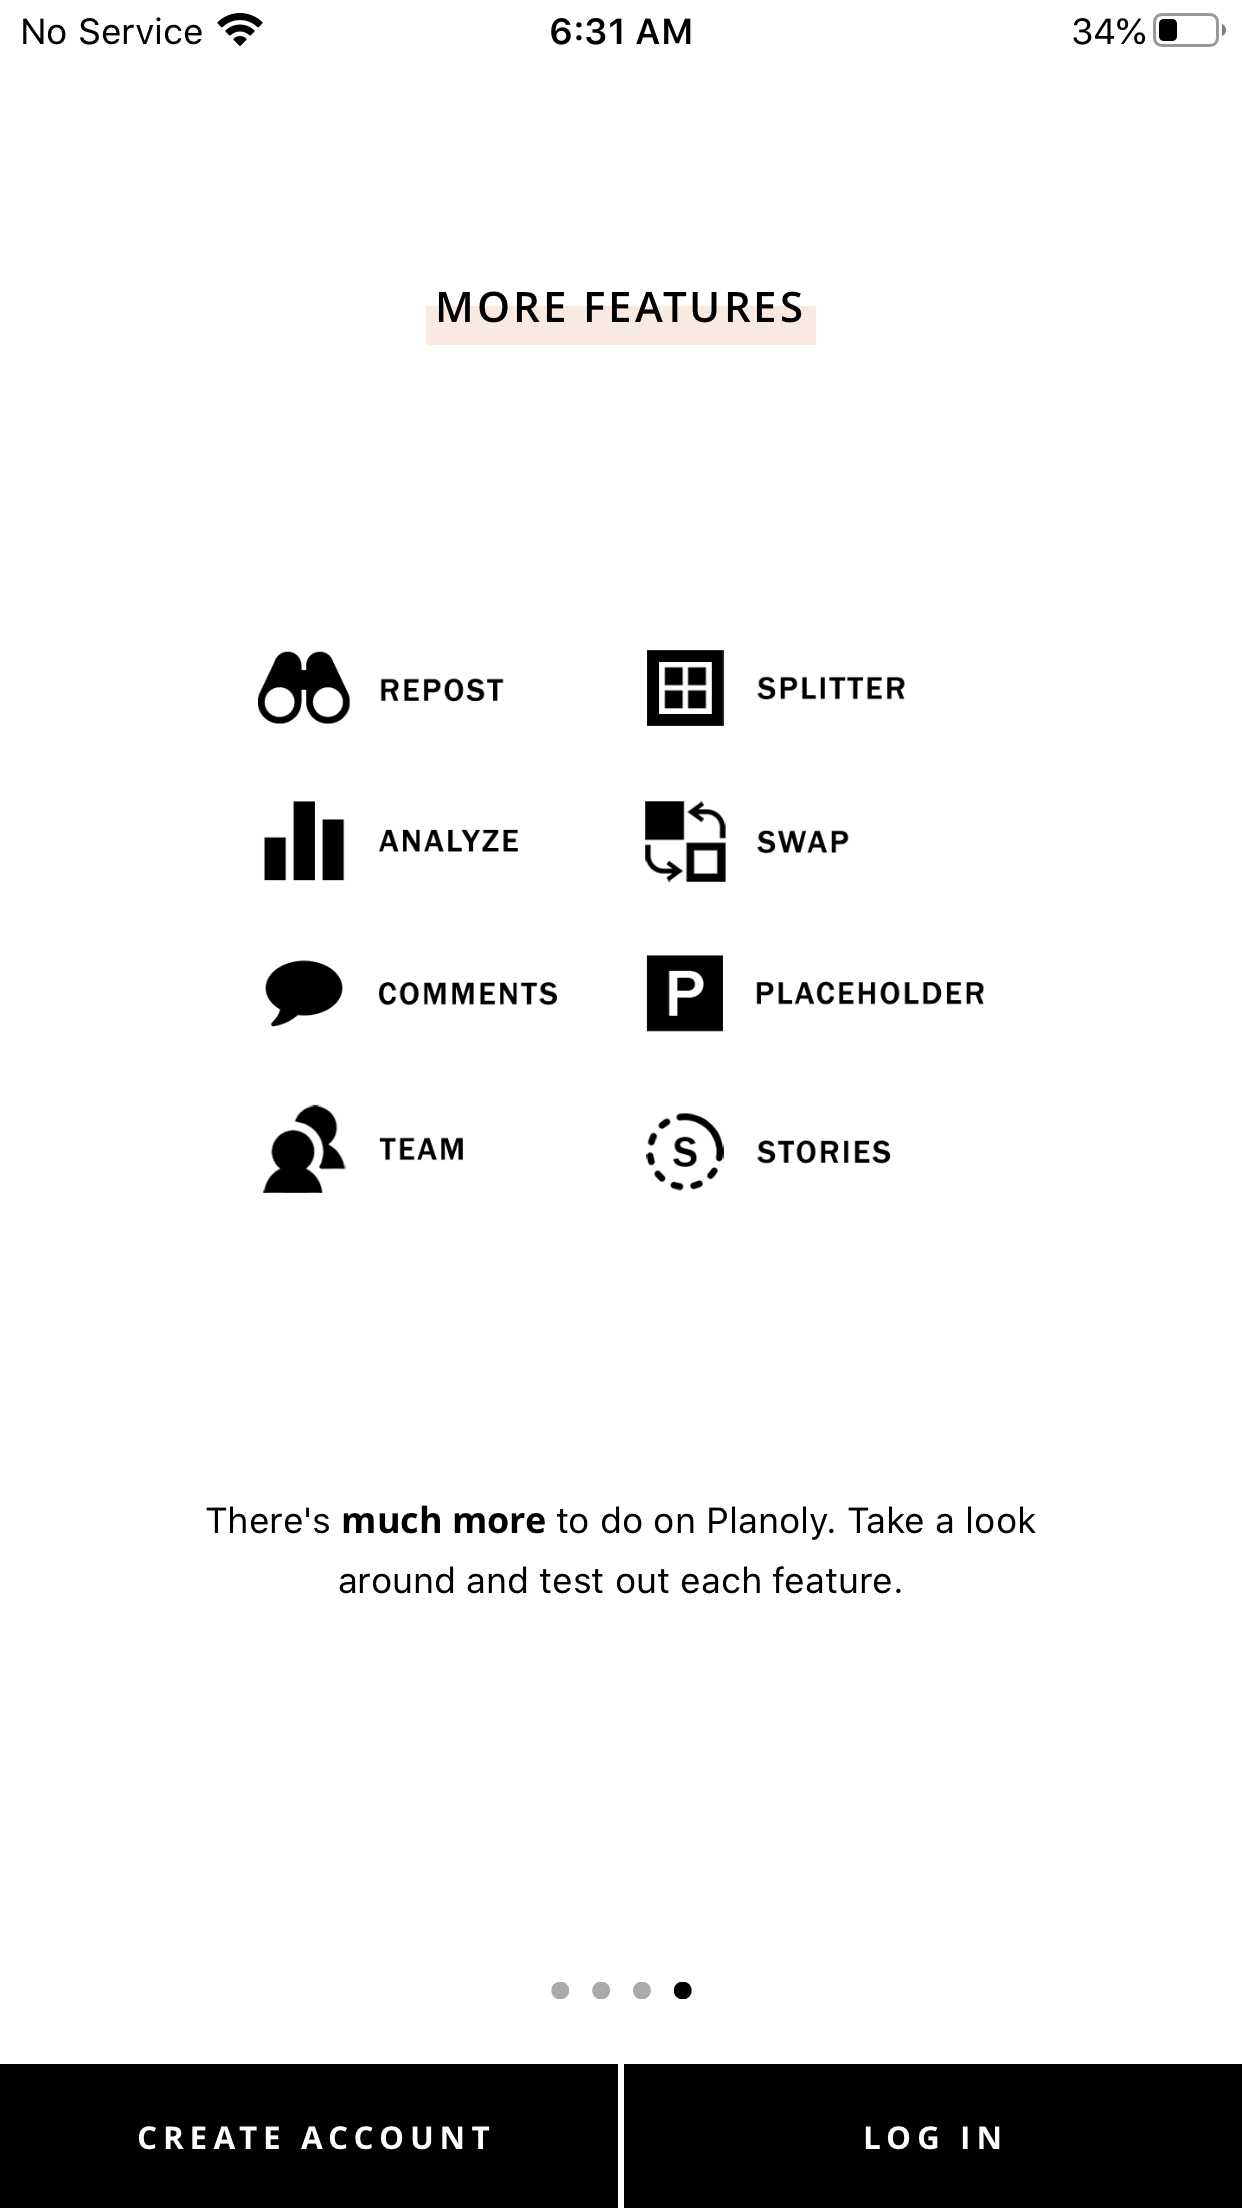Icon: (262, 1106, 346, 1193), (258, 651, 350, 725), (645, 801, 726, 883), (264, 801, 346, 881), (646, 1113, 723, 1190), (648, 955, 723, 1033), (648, 651, 723, 726), (265, 960, 343, 1027)
PageIndicator: (550, 1982, 692, 1999)
Text: (206, 1504, 1036, 1594), (438, 291, 801, 323), (757, 981, 984, 1005), (379, 983, 557, 1005), (757, 676, 905, 701), (757, 1140, 892, 1165), (379, 830, 519, 852), (381, 678, 503, 702), (757, 830, 849, 854), (379, 1137, 463, 1160)
TextButton: (623, 2064, 1240, 2208), (2, 2064, 619, 2208)
UpperTaskBar: (2, 2, 1242, 49)
